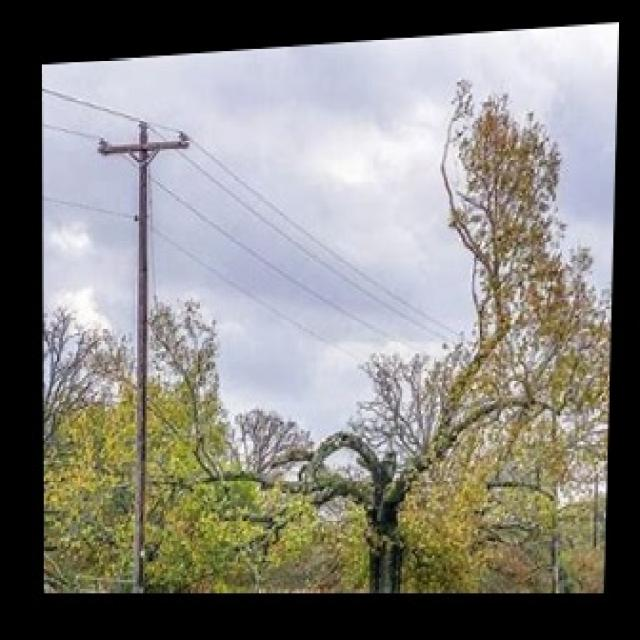utility poles: (78, 100, 206, 590)
